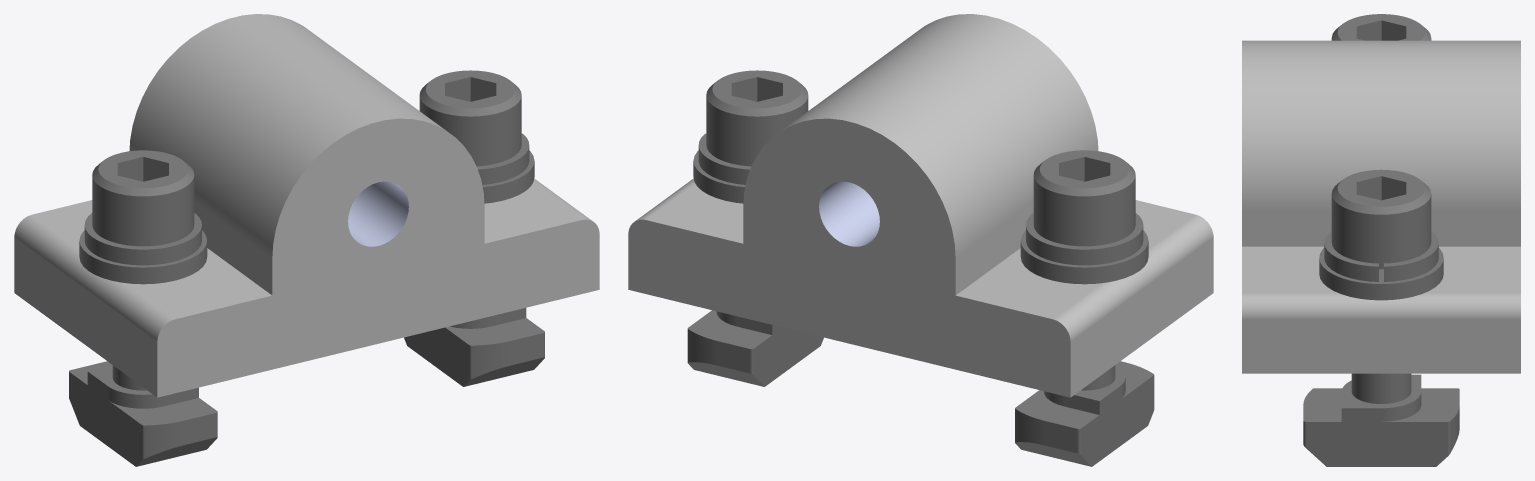
File: TPGU-TPGU-308-3030-M8-ZP-GB.glb
The picture shows the model from 3 angles, left to right: view 1: azimuth 30°, elevation 25°; view 2: azimuth 150°, elevation 25°; view 3: azimuth 270°, elevation 25°; orthographic projection. The views are drawn at different scales.
Visible parts, largest first — view 1: NAUO1, NAUO4, NAUO5, NAUO2, NAUO3; view 2: NAUO1, NAUO4, NAUO2, NAUO5, NAUO3; view 3: NAUO1, NAUO2, NAUO3, NAUO4.
Part boxes in pixels (bbox=[...]): NAUO1: bbox=[14, 14, 599, 397]; NAUO4: bbox=[79, 150, 207, 390]; NAUO5: bbox=[69, 361, 217, 466]; NAUO2: bbox=[419, 70, 534, 203]; NAUO3: bbox=[404, 308, 544, 386]; NAUO1: bbox=[628, 14, 1213, 397]; NAUO4: bbox=[1020, 150, 1148, 390]; NAUO2: bbox=[693, 70, 808, 203]; NAUO5: bbox=[1015, 361, 1154, 466]; NAUO3: bbox=[687, 310, 823, 386]; NAUO1: bbox=[1242, 40, 1520, 373]; NAUO2: bbox=[1319, 169, 1443, 403]; NAUO3: bbox=[1303, 374, 1459, 466]; NAUO4: bbox=[1331, 14, 1431, 40].
Bounding box in the file's own units: 0.05 × 0.0355 × 0.028.
